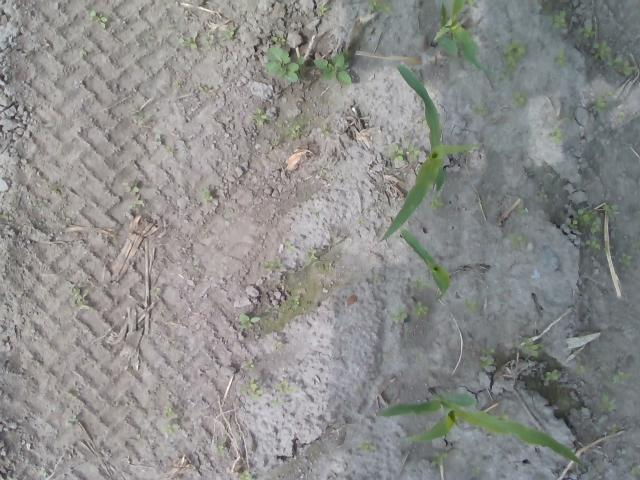Maize: (381, 64, 473, 246), (375, 386, 583, 464), (431, 0, 498, 92), (400, 228, 451, 299)
Weeds: (263, 44, 299, 84), (312, 52, 354, 85), (270, 120, 304, 145), (571, 208, 602, 235), (67, 280, 92, 312), (502, 40, 526, 68), (308, 250, 335, 274), (605, 56, 634, 78), (163, 405, 179, 435), (594, 86, 614, 110), (240, 382, 264, 402), (390, 145, 418, 162), (549, 118, 567, 143), (237, 312, 262, 330), (89, 9, 109, 28), (552, 7, 568, 30), (592, 40, 612, 58), (521, 338, 539, 358), (124, 178, 143, 195), (368, 0, 392, 13), (603, 201, 621, 218), (412, 301, 431, 317), (253, 106, 268, 126), (480, 348, 494, 368), (431, 450, 448, 466), (510, 233, 527, 249), (464, 298, 481, 314), (269, 32, 287, 47), (609, 370, 625, 386), (616, 251, 632, 267), (511, 90, 526, 107), (554, 47, 568, 65), (602, 394, 615, 413), (178, 38, 198, 50), (412, 278, 432, 290), (262, 258, 281, 270), (152, 126, 163, 146), (614, 110, 626, 128), (428, 196, 443, 210), (545, 368, 560, 382), (392, 312, 408, 324), (357, 440, 370, 454), (586, 238, 600, 251), (574, 365, 590, 375), (318, 1, 330, 14), (275, 380, 288, 392), (316, 126, 329, 138), (221, 28, 234, 40), (215, 445, 226, 457), (285, 243, 296, 255), (202, 34, 215, 44), (202, 188, 212, 200), (240, 470, 251, 480), (536, 190, 546, 200), (476, 106, 486, 115), (292, 295, 300, 306)
